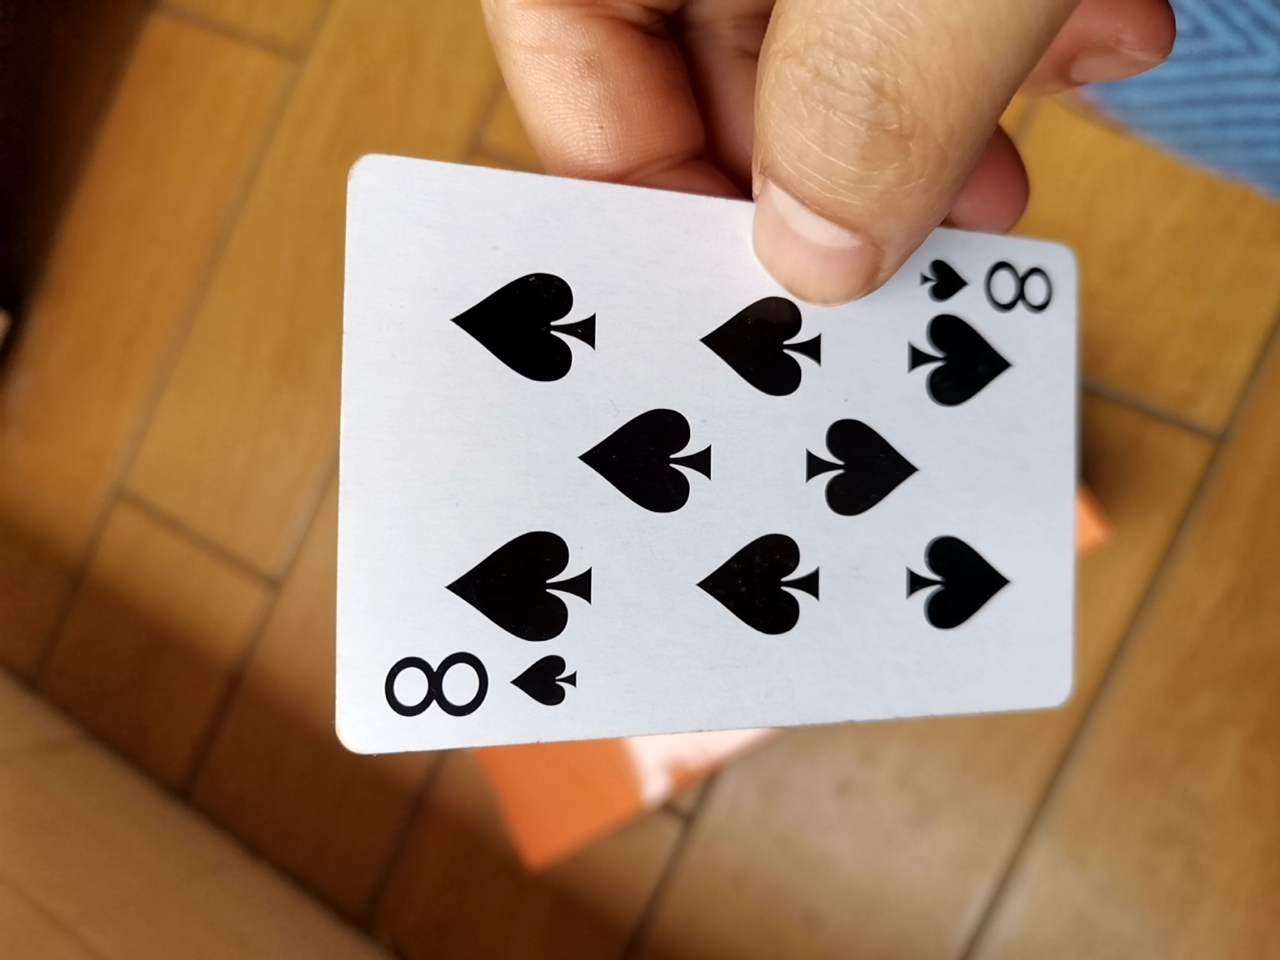ht 8: (313, 163, 1094, 782)
